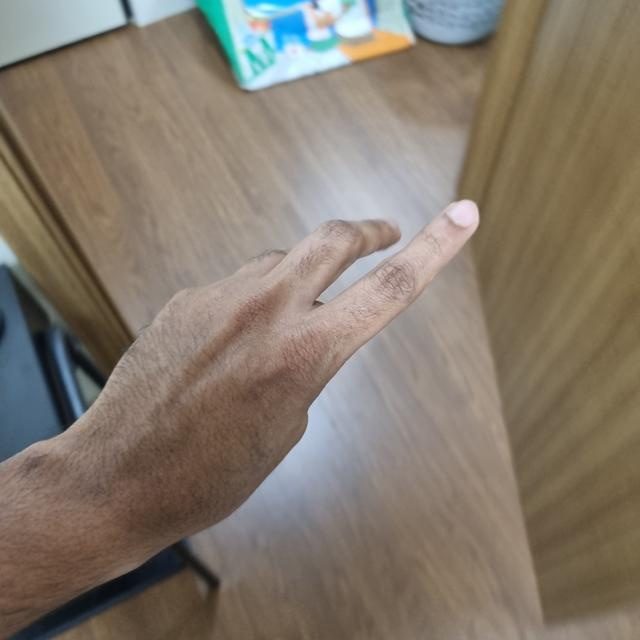Scissors: (73, 203, 481, 543)
